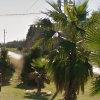Palm tree: (36, 2, 90, 99)
